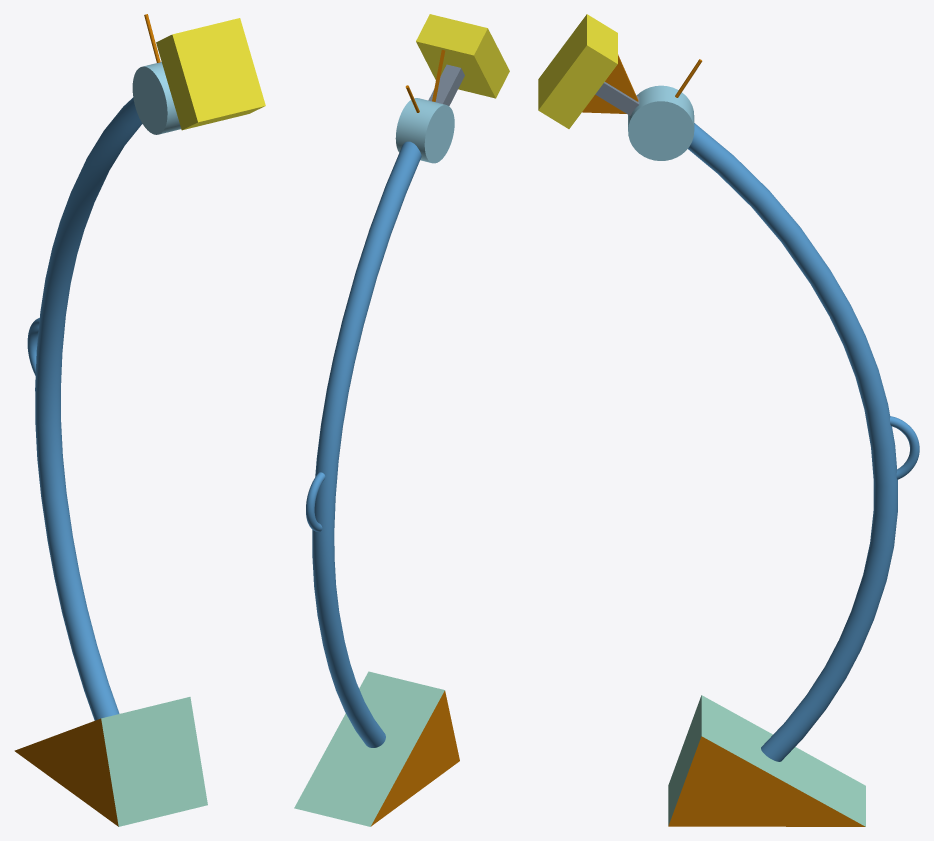
The model's file is Treetops_Floor_Lamp.glb.
The picture shows the model from 3 angles, left to right: view 1: azimuth 30°, elevation 25°; view 2: azimuth 150°, elevation 25°; view 3: azimuth 270°, elevation 25°; orthographic projection. The views are drawn at different scales.
Visible parts, largest first — view 1: floor_lamp; view 2: floor_lamp; view 3: floor_lamp.
Boxes of the visible parts, left/top/right/bottom form: floor_lamp: left=14, top=14, right=265, bottom=826; floor_lamp: left=294, top=14, right=509, bottom=826; floor_lamp: left=538, top=14, right=919, bottom=826.
Size of the model in its own units: 0.2105 by 1.85 by 0.8242.
